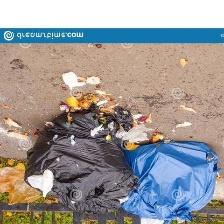plastic_bag: (18, 98, 141, 219), (118, 138, 222, 224), (0, 161, 45, 209)
